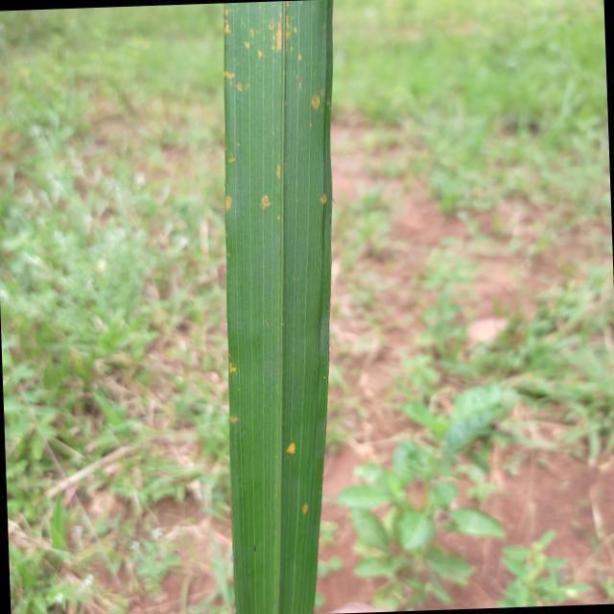Kalium: (219, 1, 335, 614)
